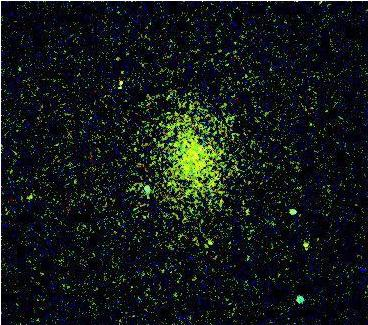star: (288, 229, 318, 259)
